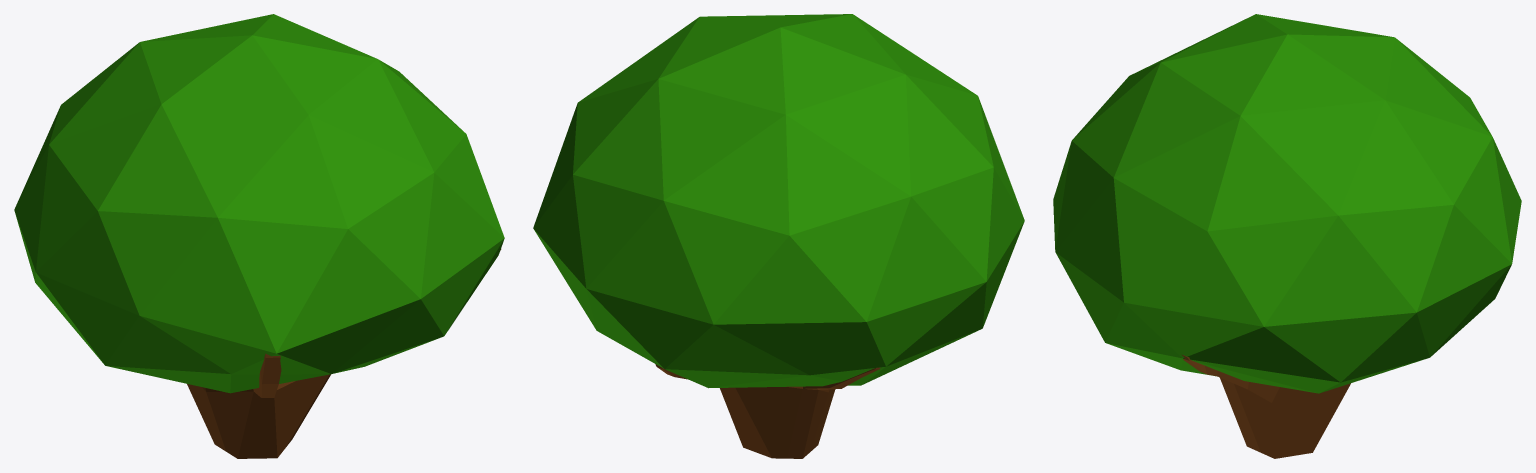
File: shrub_0.fbx
3 views of the same model, side by side, from view 1: azimuth 30°, elevation 25°; view 2: azimuth 150°, elevation 25°; view 3: azimuth 270°, elevation 25° (orthographic). The views are drawn at different scales.
Parts seen in each view (by area): view 1: Bush_basement.002; view 2: Bush_basement.002; view 3: Bush_basement.002.
Boxes of the visible parts, x1,y1,x2,y2 form: Bush_basement.002: [14, 14, 504, 458]; Bush_basement.002: [533, 14, 1024, 458]; Bush_basement.002: [1053, 14, 1521, 458].
Size of the model in its own units: 59.86 by 54.96 by 56.97.
